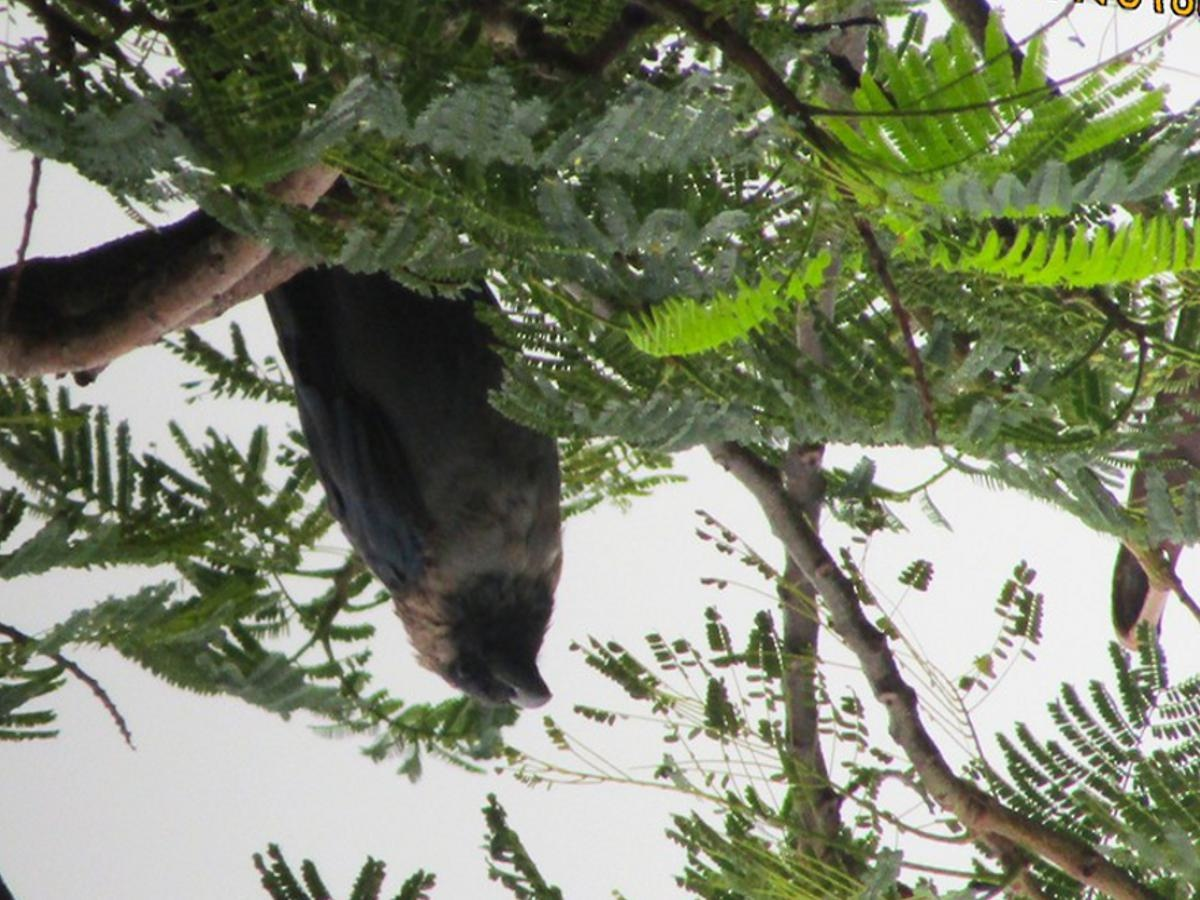crow: (220, 92, 601, 733)
